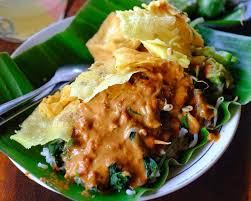Nasi pecel: (22, 9, 227, 189)
